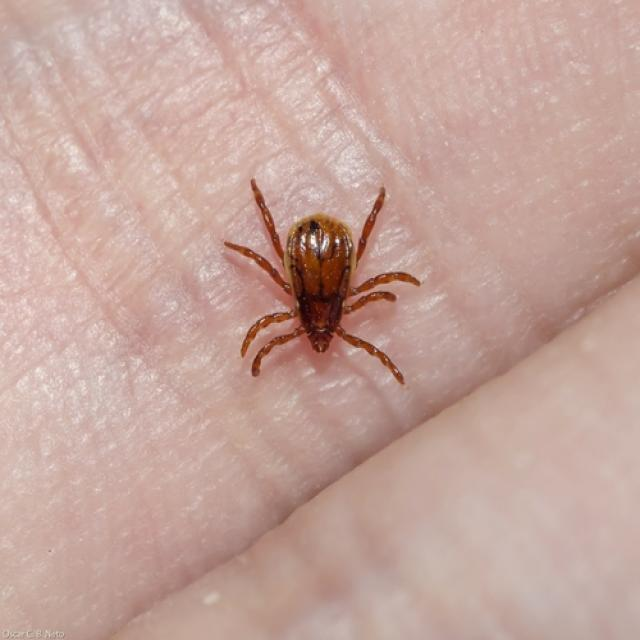Rhipicephalus Sanguineus-M: (224, 179, 421, 386)
